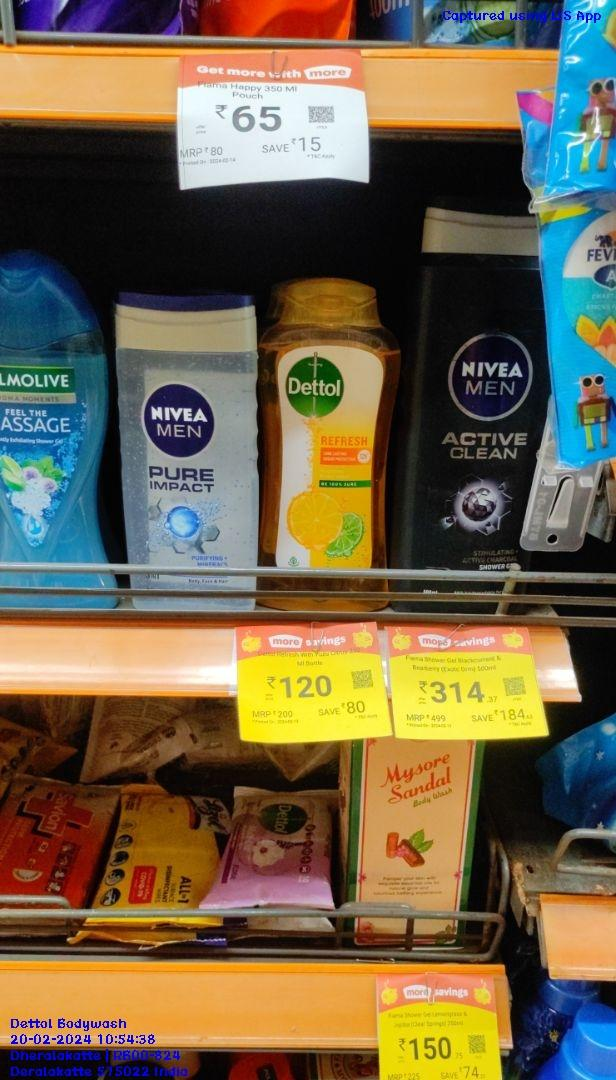Dettol_Bodywash_Refresh: (272, 279, 387, 612)
Palmolive_Aroma_Moments_Feel_The_Massage_Shower_Gel_250ML: (0, 246, 113, 604)
